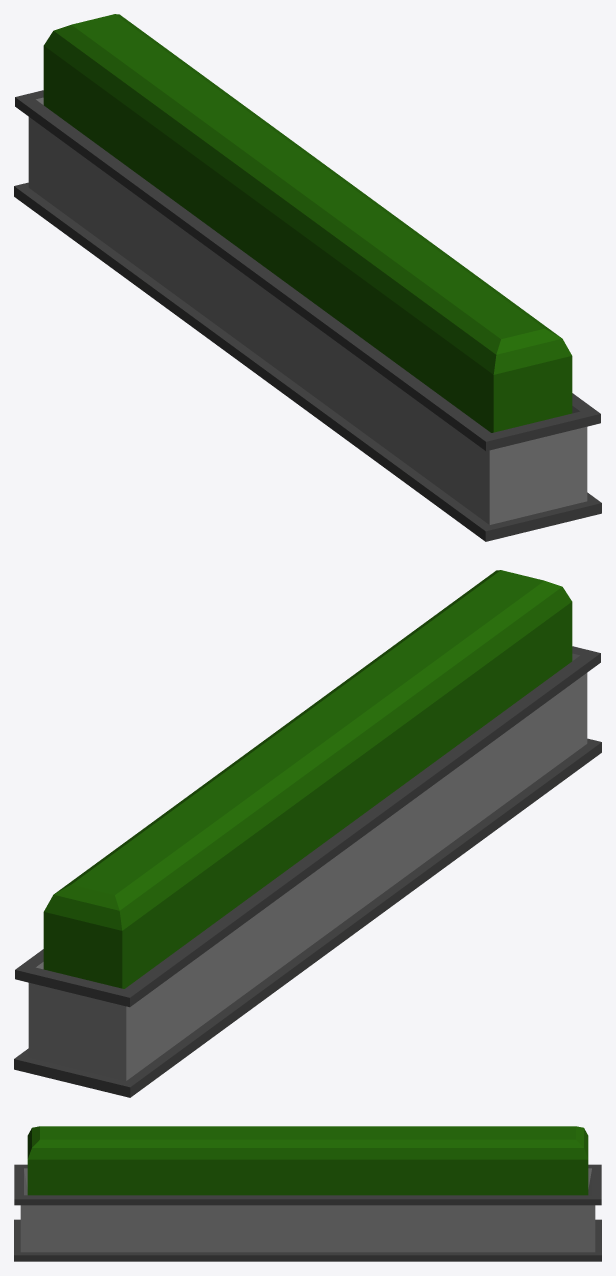
Rendered from bush_02_Long.fbx.
The picture shows the model from 3 angles, top to bottom: view 1: azimuth 30°, elevation 25°; view 2: azimuth 150°, elevation 25°; view 3: azimuth 270°, elevation 25°; orthographic projection. The views are drawn at different scales.
Visible parts, largest first — view 1: bush_02_Long; view 2: bush_02_Long; view 3: bush_02_Long.
Boxes of the visible parts, <box> form: bush_02_Long: <box>14,14,601,541</box>; bush_02_Long: <box>14,570,601,1097</box>; bush_02_Long: <box>14,1126,601,1261</box>.
Size of the model in its own units: 100 by 147 by 703.
1 material, 1 textured.
